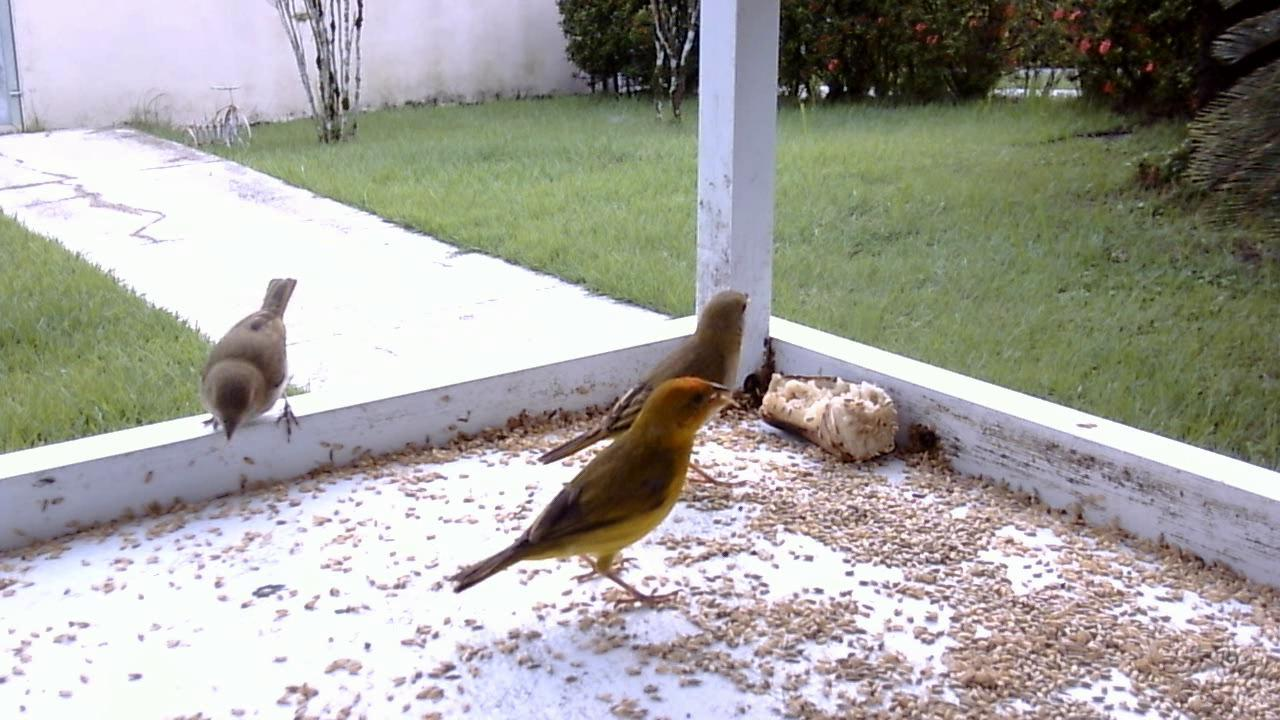canario_do_amazonas: (438, 385, 744, 614), (524, 289, 755, 466), (195, 274, 308, 449)
